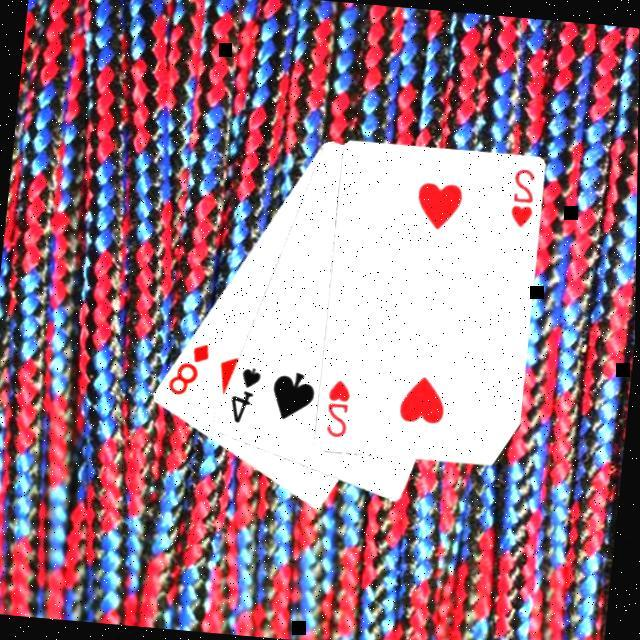2H: (319, 376, 353, 442), (504, 166, 537, 232)
4S: (223, 363, 263, 429)
8D: (162, 337, 212, 401)
